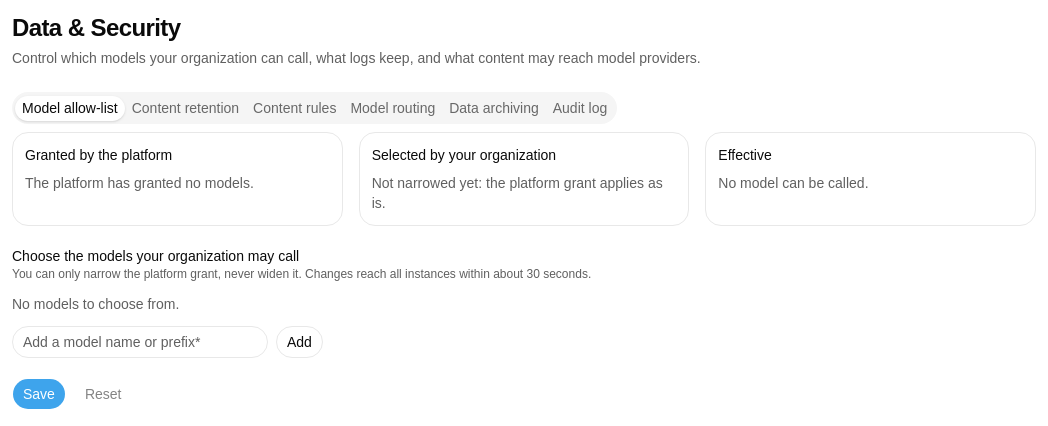
content rules › lists rules with readable builtin names and the observe-first guide
The width and height of the screenshot is (1048, 426).
Click the tab "Content rules": (295, 108) [246,96,343,120]
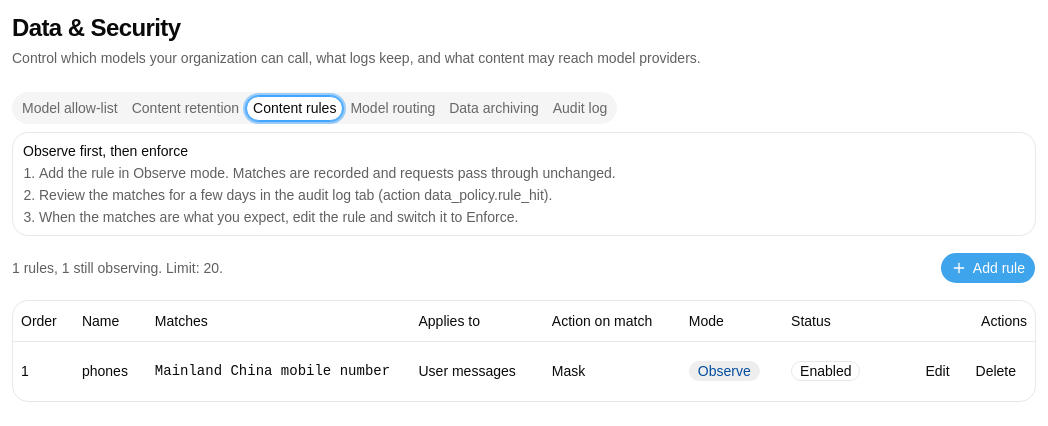
expect the text "phones" is shown: met, box [74,341,147,401]
expect the text "Mainland China mobile number" is shown: met, box [147,341,410,401]
expect the text "Observe first, then enforce" is shown: met, box [23,143,188,159]
